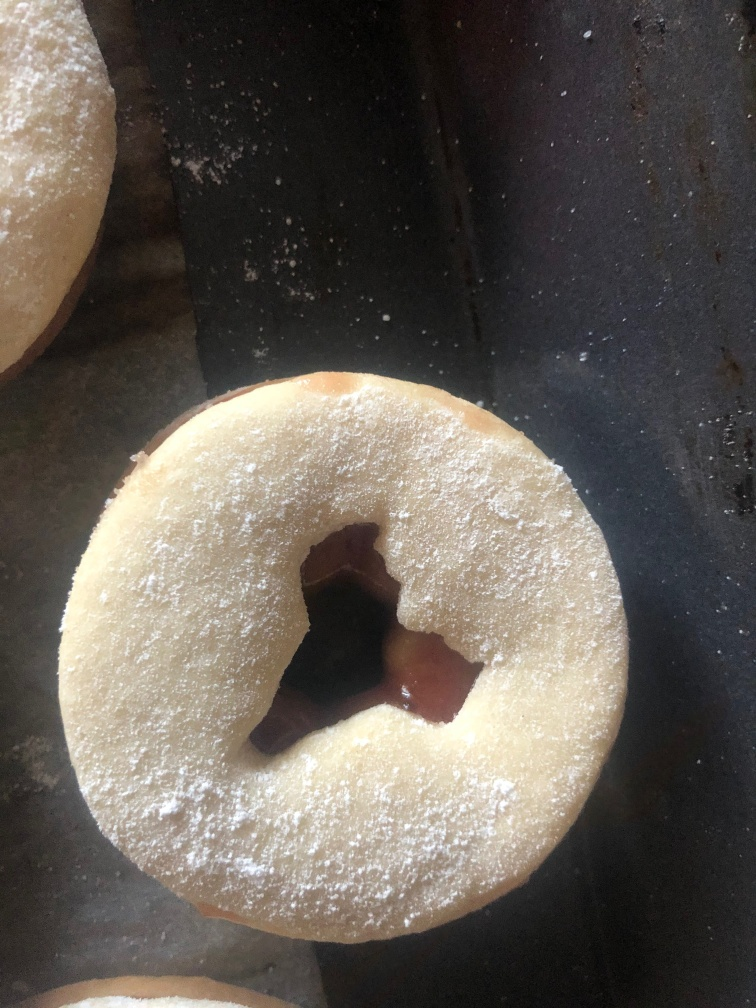christmas shortbread with jam: (53, 369, 630, 944)
